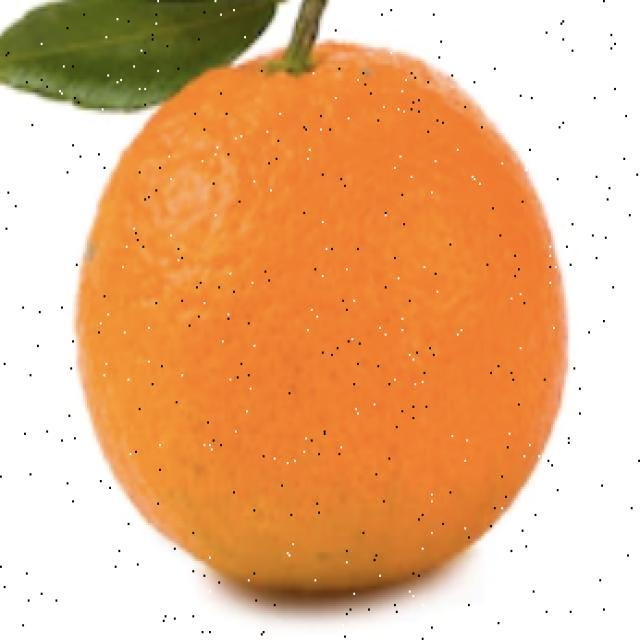Orange: (73, 29, 569, 595)
